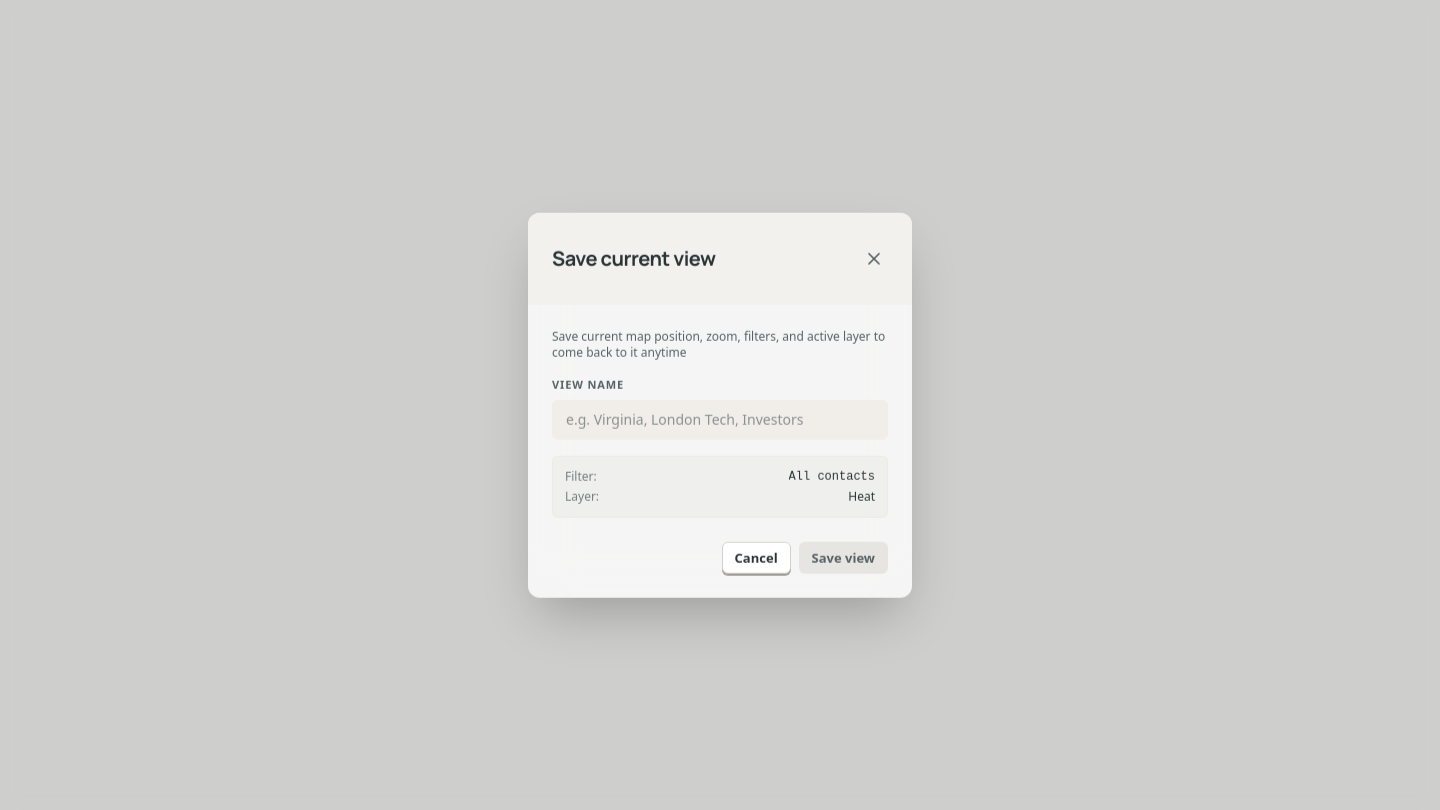
SaveViewModal › displays server rejection error message
This screenshot has width=1440, height=810.
In the field labelled "View name": [720, 419] box [552, 399, 888, 439], type "Too Many"
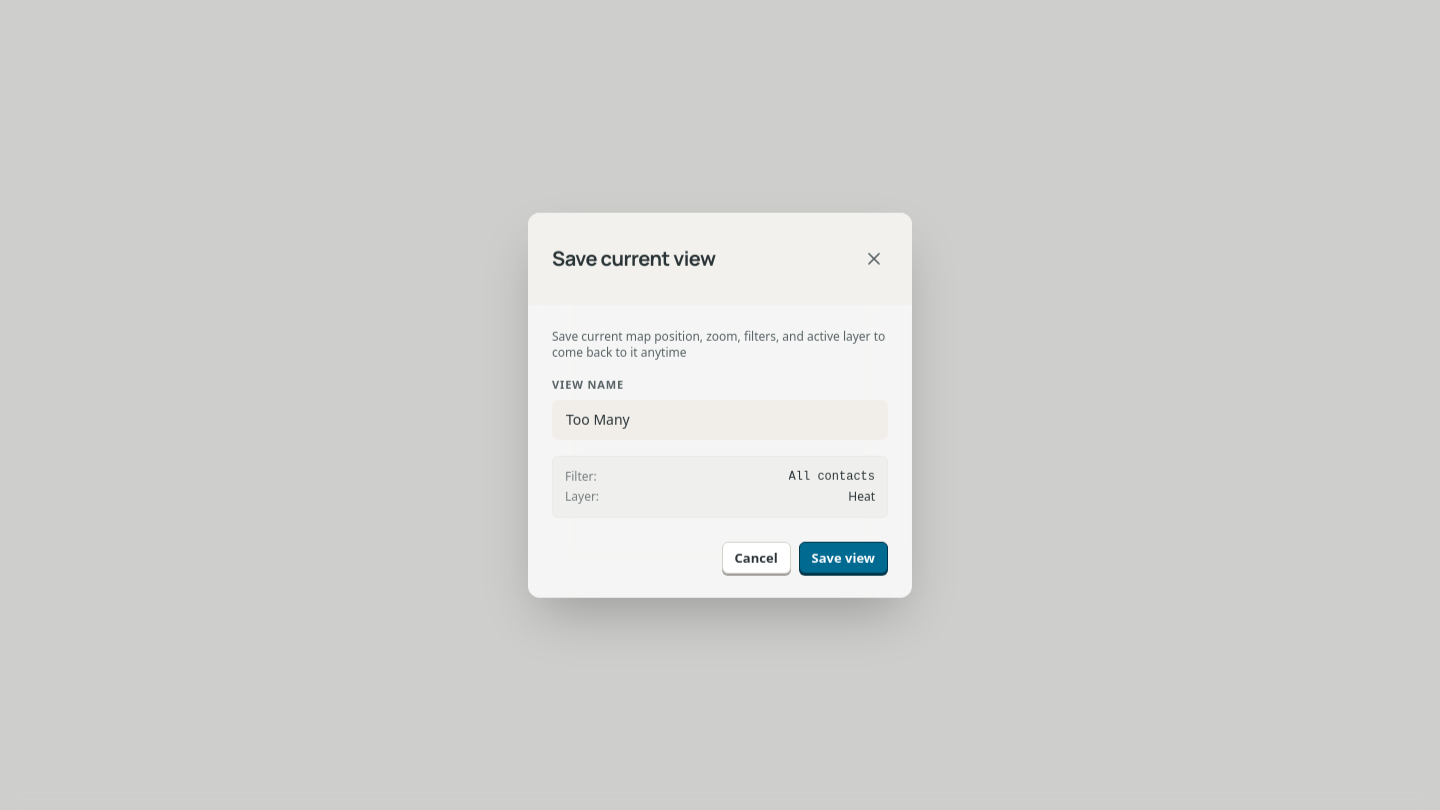
Click the button "Save view": [843, 557] box [799, 541, 888, 573]
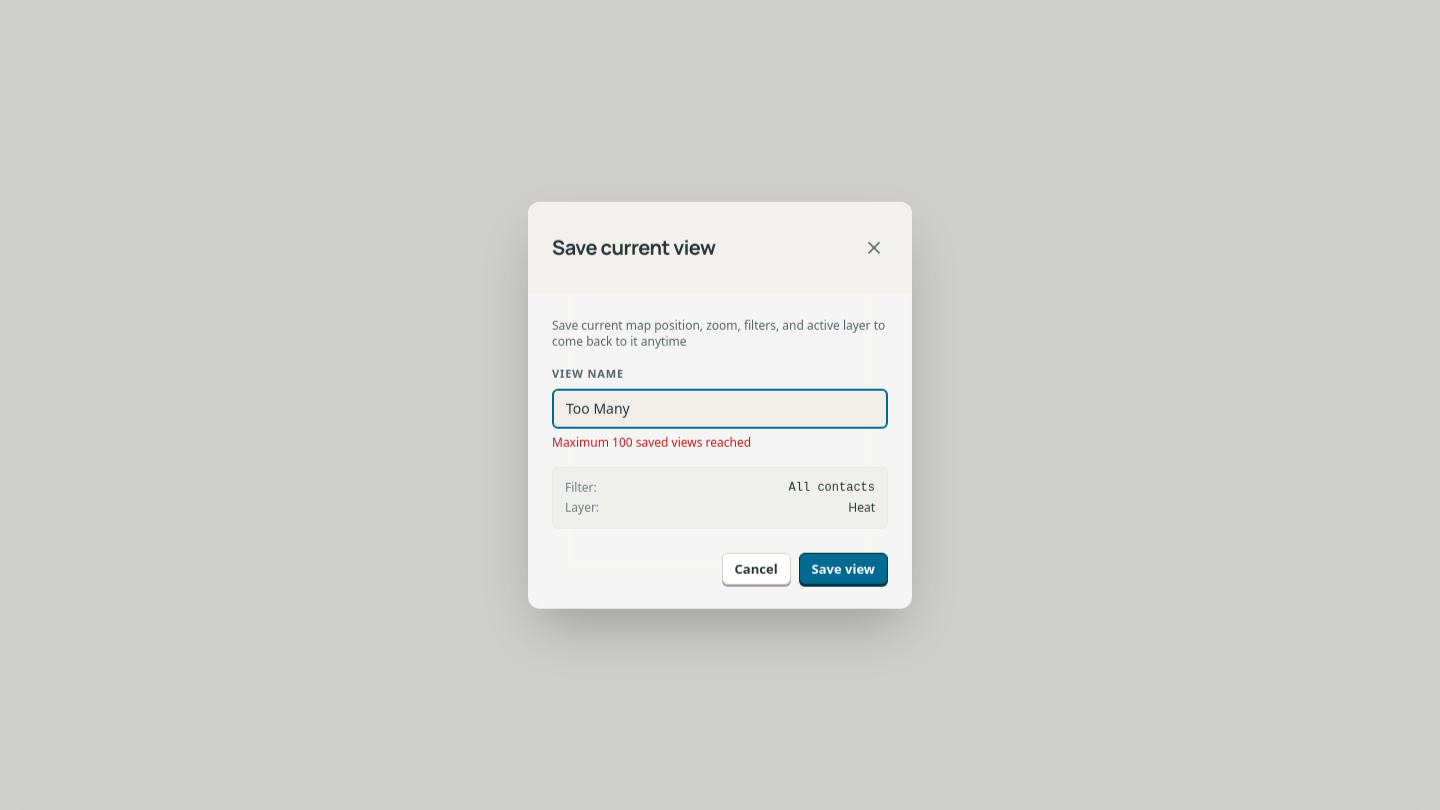
Check: the message reads "Maximum 100 saved views reached", box [552, 433, 751, 450]
